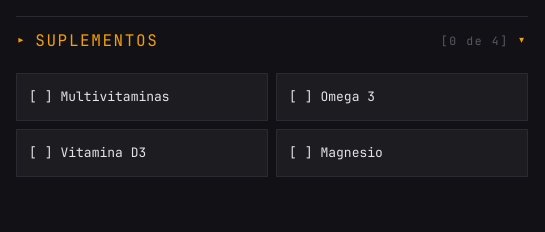
Scenario: la casilla se marca al instante y vuelve si la petición falla
The width and height of the screenshot is (545, 232).
Click the button with aria-label "Magnesio, sin tomar" at (402, 153), box [276,129,528,177]
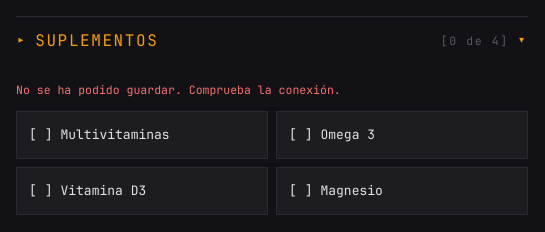
Expected: the button with aria-label "Magnesio, sin tomar" is shown, [276,167,528,215]
Expected: the text "No se ha podido guardar. Comprueba la conexión." is shown, [16,82,341,97]
